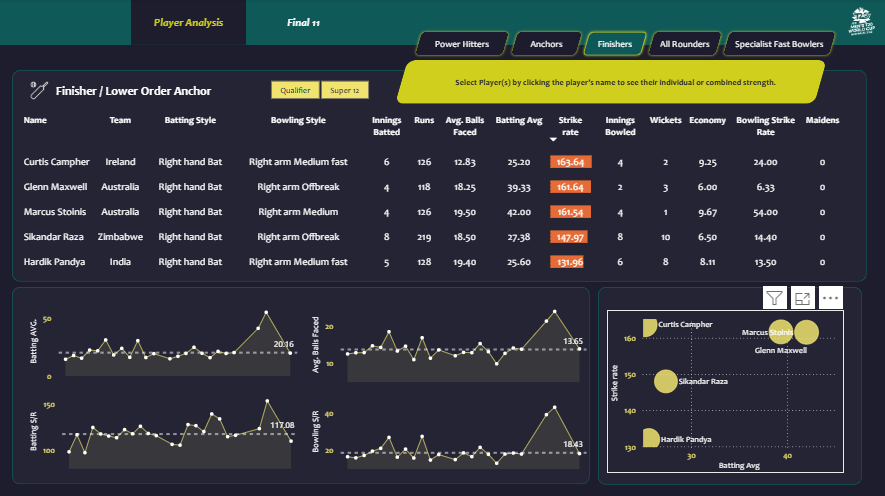

The page's visual inventory and layout, read from the dashboard file:
{"tool":"powerbi","page":{"name":"New Finisher / Lower Order Anchor","canvas":[1280,720],"ordinal":2},"visuals":[{"type":"shape","box":[0,66,1280,654],"z":0},{"type":"card","fields":{"Values":["Key_Measures.Strike rate"]},"box":[867,89,93,60],"z":0,"group":"g2"},{"type":"shape","box":[83.7,116.2,260,31.2],"z":0,"group":"g1"},{"type":"card","fields":{"Values":["Key_Measures.Bat Avg"]},"box":[768,89,92,60],"z":1000,"group":"g2"},{"type":"image","box":[37.5,113.8,44,36],"z":1000,"group":"g1"},{"type":"shape","box":[20,414,832,284],"z":1000},{"type":"actionButton","box":[734,42.6,111,42],"z":2000},{"type":"card","fields":{"Values":["Key_Measures.Bowling Strike Rate"]},"box":[1073,89,100,60],"z":2000,"group":"g2"},{"type":"actionButton","box":[596,42.6,144,42],"z":3000},{"type":"card","fields":{"Values":["Key_Measures.Avergate Balls Faced"]},"box":[966,89,101,60],"z":3000,"group":"g2"},{"type":"actionButton","box":[838,42.6,101,42],"z":4000},{"type":"actionButton","box":[932,42.6,115,42],"z":5000},{"type":"actionButton","box":[1039,42.6,171,42],"z":6000},{"type":"image","box":[1220,3,48,59],"z":7000},{"type":"areaChart","fields":{"Category":["dim_match_summary.Match_Date.Variation.Date Hierarchy.Day"],"Y":["Key_Measures.Avergate Balls Faced"]},"box":[446,430,406,126],"z":9000},{"type":"areaChart","fields":{"Category":["dim_match_summary.Match_Date.Variation.Date Hierarchy.Day"],"Y":["Key_Measures.Bowling Strike Rate"]},"box":[446,556,406,126],"z":11000},{"type":"areaChart","fields":{"Category":["dim_match_summary.Match_Date.Variation.Date Hierarchy.Day"],"Y":["Key_Measures.Bat Avg"]},"box":[40,428.9,395.6,126.7],"z":12000},{"type":"areaChart","fields":{"Category":["dim_match_summary.Match_Date.Variation.Date Hierarchy.Day"],"Y":["Key_Measures.Strike rate"]},"box":[40,555.6,396.7,125.6],"z":13000},{"type":"shape","box":[19.6,101.9,1231,304.8],"z":14000},{"type":"group","id":"g1","title":"Group 2","box":[37.5,113.8,306.2,36],"z":15000},{"type":"slicer","fields":{"Values":["dim_match_summary.stage"]},"box":[366.7,111.1,191.1,38.9],"z":16000},{"type":"tableEx","fields":{"Values":["dim_player.name","Min(dim_player.team)","Min(dim_player.Batting Style)","Min(dim_player.Bowling Style)","Key_Measures.Total Innings Batted","Key_Measures.Total Runs","Key_Measures.Avergate Balls Faced","Key_Measures.Bat Avg","Key_Measures.Strike rate","Key_Measures.Total Innings Bowled","Key_Measures.wickets","Key_Measures.Economy"]},"box":[26.5,150.9,1224.1,254.8],"z":17000},{"type":"shape","box":[572,88,622,63],"z":18000},{"type":"shape","box":[591,103,173,34],"z":19000},{"type":"group","id":"g2","title":"Combined Perfoamce Metrices","box":[768,89,405,60],"z":20000},{"type":"actionButton","title":"Button Player Ana selected","box":[191,0,166,66],"z":22000},{"type":"actionButton","title":"Button Player Ana selected","box":[357,0,166,66],"z":23000},{"type":"shape","box":[608.6,102.9,560.6,36.3],"z":23501},{"type":"shape","box":[863.7,414.3,380,284.8],"z":24001},{"type":"scatterChart","fields":{"Y":["Key_Measures.Strike rate"],"Category":["dim_player.name"],"X":["Key_Measures.Bat Avg"],"Size":["Key_Measures.Strike rate"]},"box":[877.1,447.3,340.9,235.5],"z":24501}]}

Visuals, with their boxes in screenshot pixels (x1, y1, x2, y2), scaled from the page's 1280x720 canvas onto the 885x496 screenshot:
shape: bbox=(0, 45, 884, 495)
card - Key_Measures.Strike rate: bbox=(599, 61, 664, 103)
shape: bbox=(58, 80, 238, 102)
card - Key_Measures.Bat Avg: bbox=(531, 61, 595, 103)
image: bbox=(26, 78, 56, 103)
shape: bbox=(14, 285, 589, 481)
actionButton: bbox=(507, 29, 584, 58)
card - Key_Measures.Bowling Strike Rate: bbox=(742, 61, 811, 103)
actionButton: bbox=(412, 29, 512, 58)
card - Key_Measures.Avergate Balls Faced: bbox=(668, 61, 738, 103)
actionButton: bbox=(579, 29, 649, 58)
actionButton: bbox=(644, 29, 724, 58)
actionButton: bbox=(718, 29, 837, 58)
image: bbox=(844, 2, 877, 43)
areaChart - dim_match_summary.Match_Date.Variation.Date Hierarchy.Day x Key_Measures.Avergate Balls Faced: bbox=(308, 296, 589, 383)
areaChart - dim_match_summary.Match_Date.Variation.Date Hierarchy.Day x Key_Measures.Bowling Strike Rate: bbox=(308, 383, 589, 470)
areaChart - dim_match_summary.Match_Date.Variation.Date Hierarchy.Day x Key_Measures.Bat Avg: bbox=(28, 295, 301, 383)
areaChart - dim_match_summary.Match_Date.Variation.Date Hierarchy.Day x Key_Measures.Strike rate: bbox=(28, 383, 302, 469)
shape: bbox=(14, 70, 865, 280)
"Group 2" group: bbox=(26, 78, 238, 103)
slicer - dim_match_summary.stage: bbox=(254, 77, 386, 103)
tableEx - dim_player.name x Min(dim_player.team): bbox=(18, 104, 865, 279)
shape: bbox=(395, 61, 826, 104)
shape: bbox=(409, 71, 528, 94)
"Combined Perfoamce Metrices" group: bbox=(531, 61, 811, 103)
"Button Player Ana selected" actionButton: bbox=(132, 0, 247, 45)
"Button Player Ana selected" actionButton: bbox=(247, 0, 362, 45)
shape: bbox=(421, 71, 808, 96)
shape: bbox=(597, 285, 860, 482)
scatterChart - Key_Measures.Strike rate x dim_player.name: bbox=(606, 308, 842, 470)
